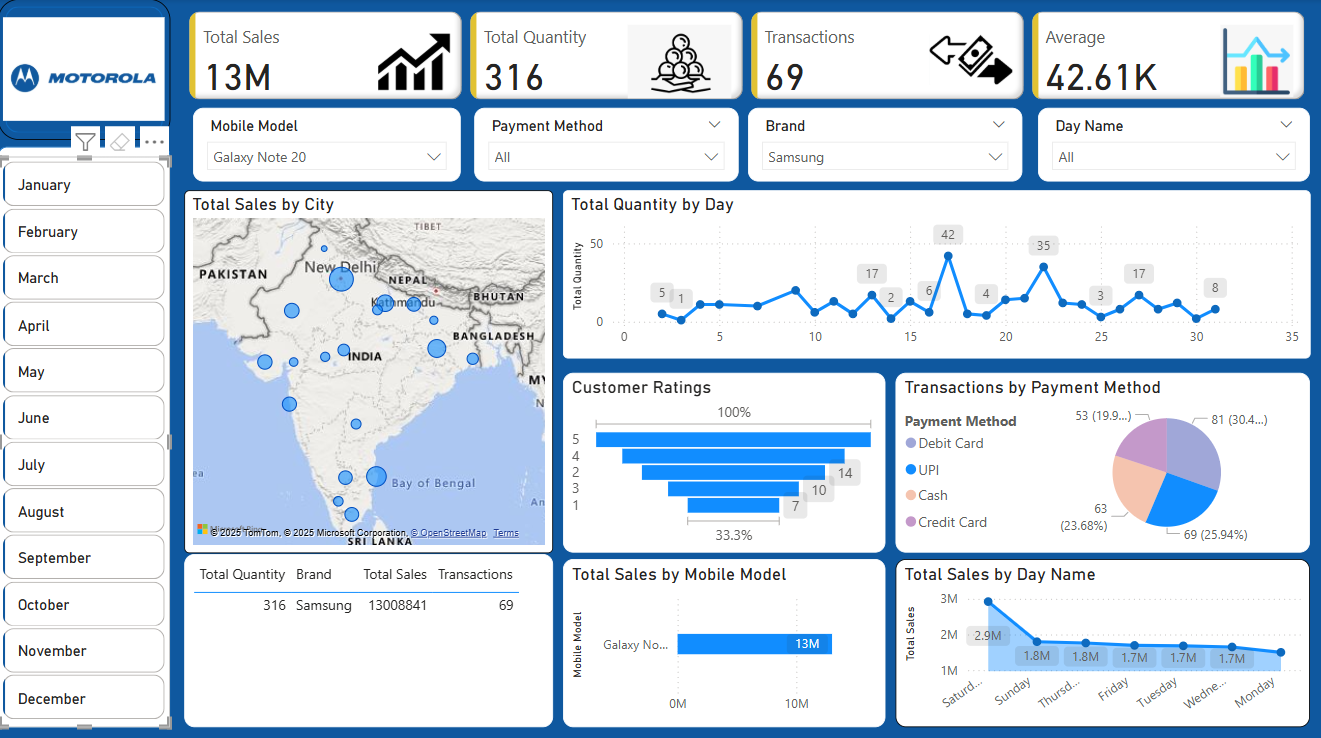

What the dashboard file says about the page in this screenshot:
{"tool":"powerbi","page":{"name":"Page 1","canvas":[1280,720],"ordinal":0},"visuals":[{"type":"shape","box":[0,142.5,166.2,561.2],"z":0},{"type":"shape","box":[0,0,166,135.8],"z":1000},{"type":"image","box":[0,0,166,135.8],"z":2000},{"type":"cardVisual","fields":{"Data":["Sales_Data.Total Sales","Sales_Data.Total Quantity","Sales_Data.Transactions","Sales_Data.Average"]},"box":[180,12.5,1086.2,90],"z":3000},{"type":"advancedSlicerVisual","fields":{"Values":["Sales_Data.Date.Variation.Date Hierarchy.Month"]},"box":[0,152.5,166.2,551.2],"z":4000},{"type":"map","fields":{"Category":["Sales_Data.City"],"Size":["Sales_Data.Total Sales"]},"box":[180,185,356.2,350],"z":5000},{"type":"lineChart","fields":{"Y":["Sales_Data.Total Quantity"],"Category":["Sales_Data.Date.Variation.Date Hierarchy.Month","Sales_Data.Date.Variation.Date Hierarchy.Day"]},"box":[545,185,721.2,162.5],"z":6000},{"type":"clusteredBarChart","fields":{"Category":["Sales_Data.Mobile Model"],"Y":["Sales_Data.Total Sales"]},"box":[545,540,311.2,162.5],"z":7000},{"type":"pieChart","fields":{"Category":["Sales_Data.Payment Method"],"Y":["Sales_Data.Transactions"]},"box":[866.2,361.2,400,173.8],"z":8000},{"type":"funnel","title":"Customer Ratings","fields":{"Category":["Sales_Data.Customer Ratings"],"Y":["CountNonNull(Sales_Data.Customer Ratings)"]},"box":[545,361.2,311.2,173.8],"z":9000},{"type":"stackedAreaChart","fields":{"Category":["Sales_Data.Day Name"],"Y":["Sales_Data.Total Sales"]},"box":[866.2,540,400,162.5],"z":10000},{"type":"tableEx","fields":{"Values":["Sales_Data.Total Quantity","Sales_Data.Brand","Sales_Data.Total Sales","Sales_Data.Transactions"]},"box":[180,536,356,167],"z":11000},{"type":"slicer","fields":{"Values":["Sales_Data.Mobile Model"]},"box":[188.8,105,258.8,71.2],"z":12000},{"type":"slicer","fields":{"Values":["Sales_Data.Day Name"]},"box":[1003.8,105,262.5,71.2],"z":13000},{"type":"slicer","fields":{"Values":["Sales_Data.Brand"]},"box":[723.8,105,265,71.2],"z":14000},{"type":"slicer","fields":{"Values":["Sales_Data.Payment Method"]},"box":[460,105,255,71.2],"z":15000}]}

Visuals, with their boxes in screenshot pixels (x1, y1, x2, y2), scaled from the page's 1280x720 canvas onto the 1321x738 screenshot:
shape: 0:146:172:721
shape: 0:0:171:139
image: 0:0:171:139
cardVisual - Sales_Data.Total Sales x Sales_Data.Total Quantity: 186:13:1307:105
advancedSlicerVisual - Sales_Data.Date.Variation.Date Hierarchy.Month: 0:156:172:721
map - Sales_Data.City x Sales_Data.Total Sales: 186:190:553:548
lineChart - Sales_Data.Total Quantity x Sales_Data.Date.Variation.Date Hierarchy.Month: 562:190:1307:356
clusteredBarChart - Sales_Data.Mobile Model x Sales_Data.Total Sales: 562:554:884:720
pieChart - Sales_Data.Payment Method x Sales_Data.Transactions: 894:370:1307:548
"Customer Ratings" funnel: 562:370:884:548
stackedAreaChart - Sales_Data.Day Name x Sales_Data.Total Sales: 894:554:1307:720
tableEx - Sales_Data.Total Quantity x Sales_Data.Brand: 186:549:553:721
slicer - Sales_Data.Mobile Model: 195:108:462:181
slicer - Sales_Data.Day Name: 1036:108:1307:181
slicer - Sales_Data.Brand: 747:108:1020:181
slicer - Sales_Data.Payment Method: 475:108:738:181
